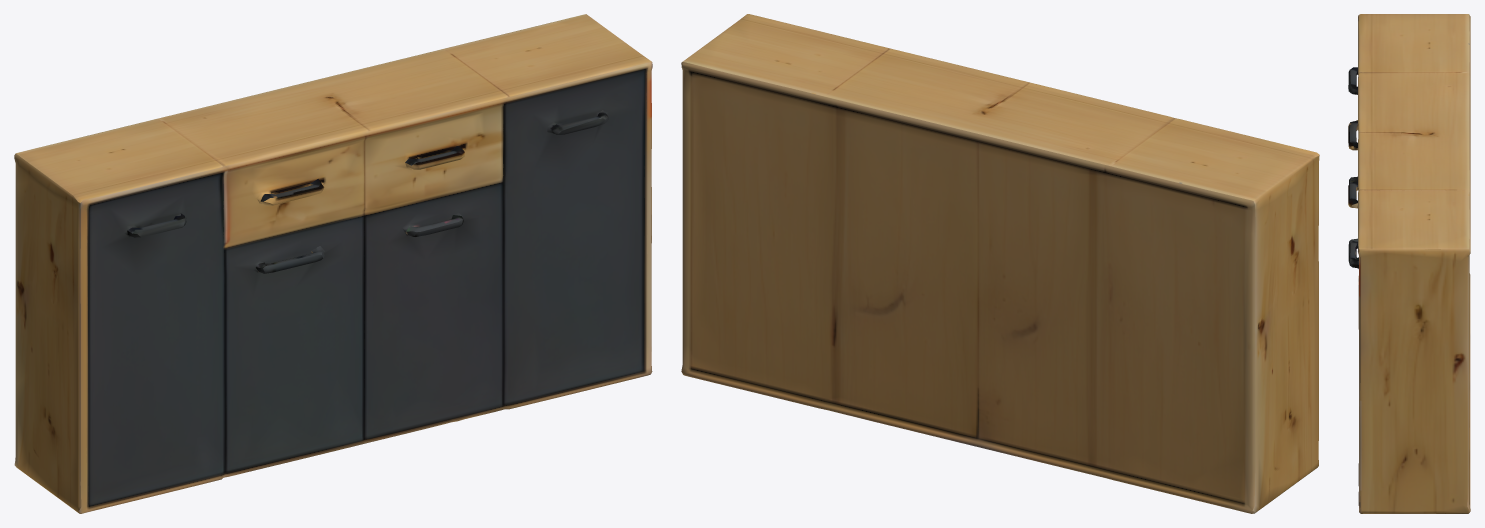
Rendered from MeubleSalon1_3D_textured.glb.
The picture shows the model from 3 angles, left to right: view 1: azimuth 30°, elevation 25°; view 2: azimuth 150°, elevation 25°; view 3: azimuth 270°, elevation 25°; orthographic projection. The views are drawn at different scales.
Parts seen in each view (by area): view 1: temp_mesh.ply; view 2: temp_mesh.ply; view 3: temp_mesh.ply.
Boxes of the visible parts, x1,y1,x2,y2 form: temp_mesh.ply: (14,14,652,513); temp_mesh.ply: (681,14,1319,513); temp_mesh.ply: (1348,14,1470,513).
Bounding box in the file's own units: 1.97 × 1.04 × 0.4323.
Materials: 1 (1 with a texture image).
